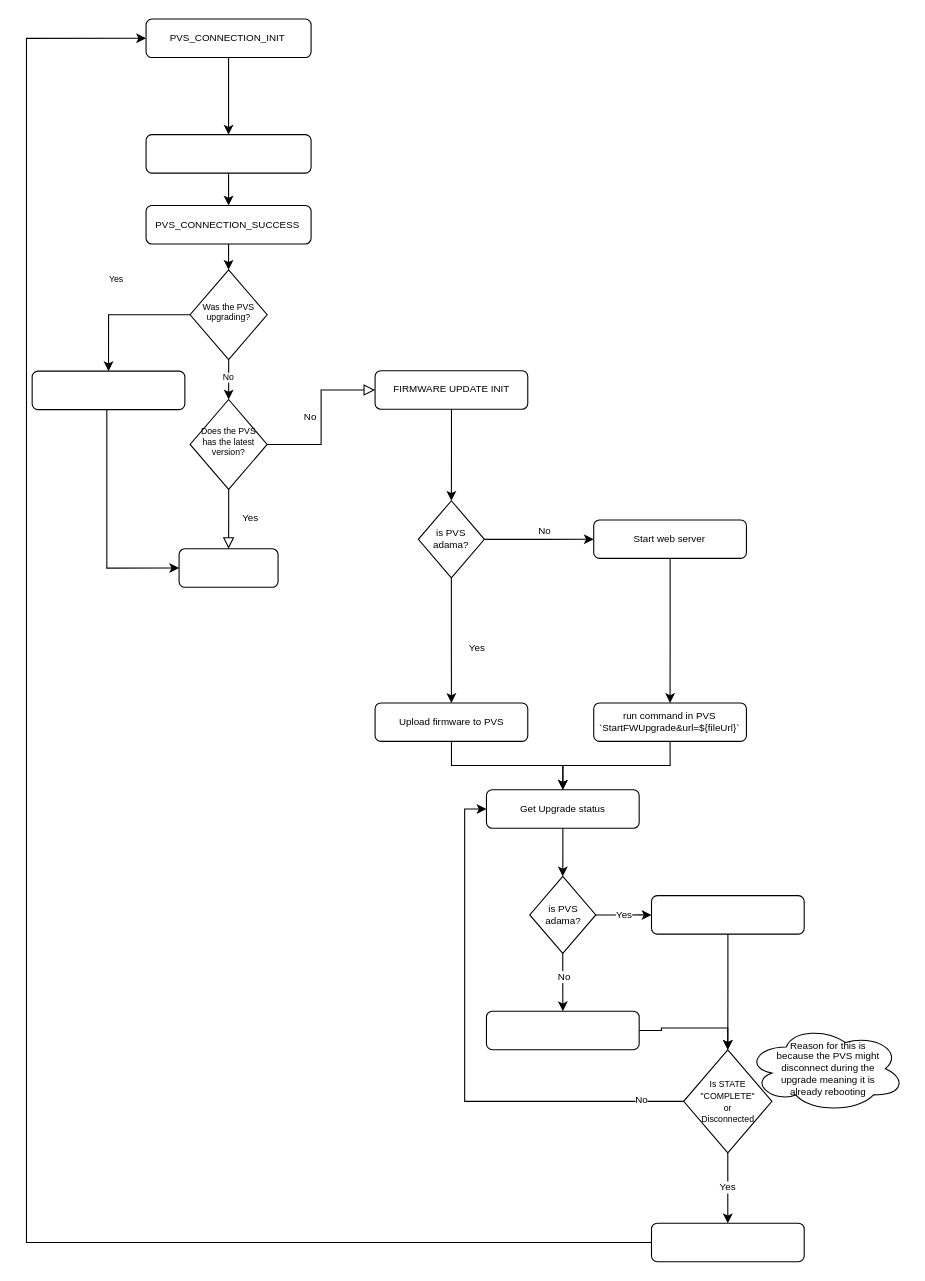
This 925x1281 diagram has some shape labels left out. The shapes that lost their labels are listed below. From the top down, each one's box as (x1, y1, x2, y2) in pixels, then its label:
(145, 134, 311, 173): WAITING_FOR_SWAGGER
(31, 370, 185, 410): FIRMWARE UPDATE COMPLETE
(178, 548, 278, 587): Continue with ACPV
(650, 895, 804, 934): Run command in PVS `GetFWUpgradeStatus`
(485, 1010, 639, 1050): Get upgrade status from swagger
(650, 1222, 804, 1262): Wait for a minute
